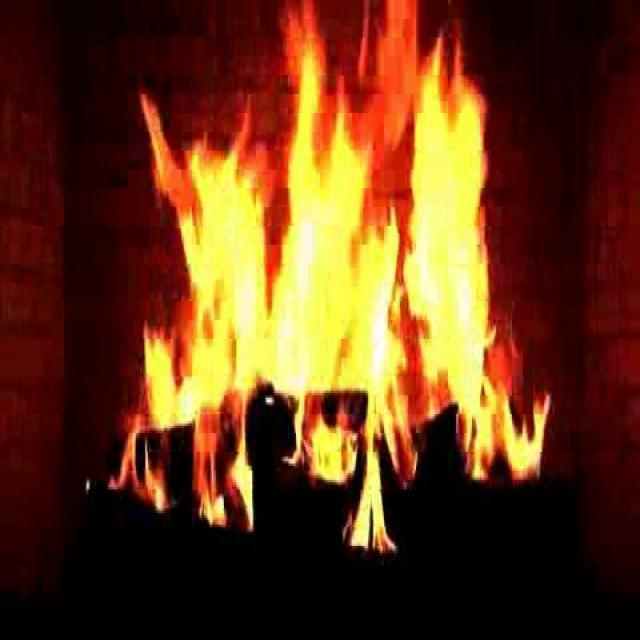Fire: (134, 10, 538, 528)
